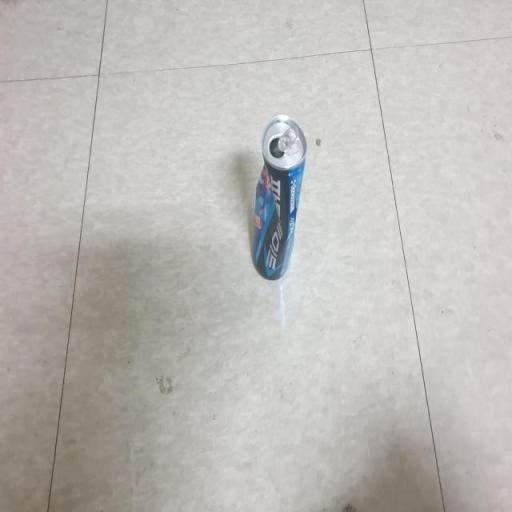metal: (242, 90, 314, 316)
